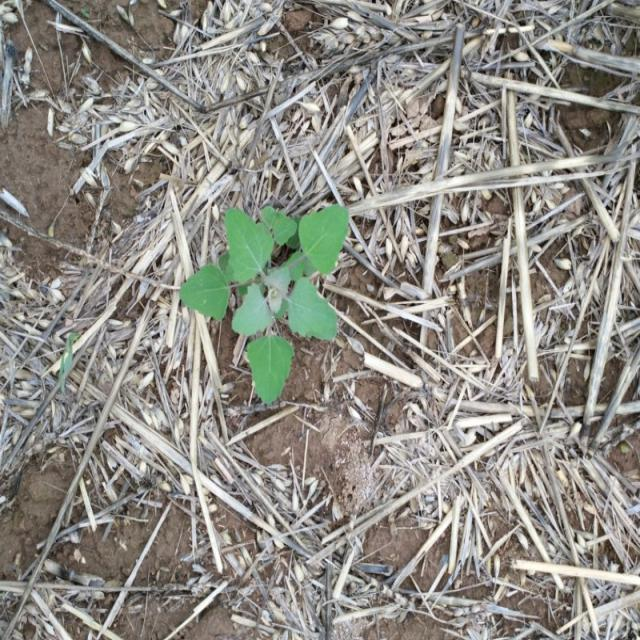goosefoots: (181, 194, 376, 396)
